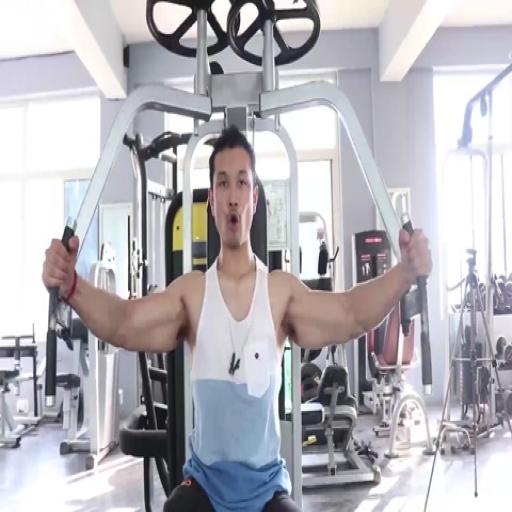exercise: (41, 124, 435, 510)
